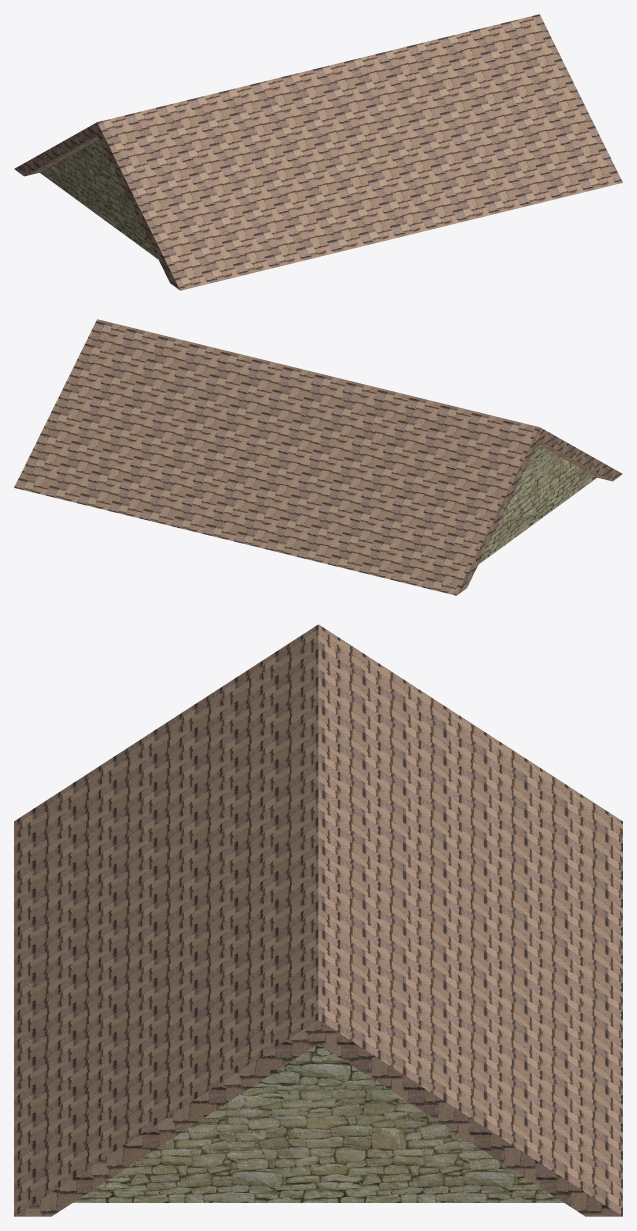
Rendered from maison5_roof.dae.
The picture shows the model from 3 angles, top to bottom: view 1: azimuth 30°, elevation 25°; view 2: azimuth 150°, elevation 25°; view 3: azimuth 270°, elevation 25°; orthographic projection. The views are drawn at different scales.
Visible parts, largest first — view 1: group_0 (×2); view 2: group_0 (×2); view 3: group_0 (×2).
Boxes of the visible parts, x1,y1,x2,y2 form: group_0 (×2): [14, 14, 622, 290]; group_0 (×2): [14, 319, 622, 595]; group_0 (×2): [14, 624, 622, 1216].
Bounding box in the file's own units: 339 × 220 × 78.74.
3 materials, 2 textured.
